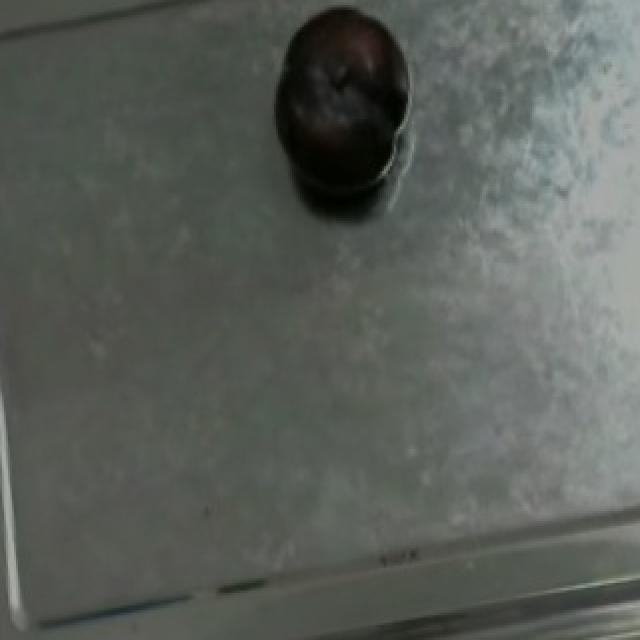Fruit: (262, 0, 420, 201)
